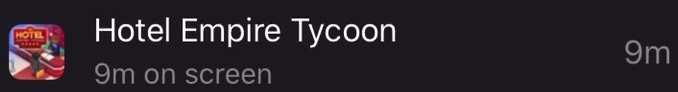name: (82, 11, 406, 50)
time: (89, 58, 142, 91)
